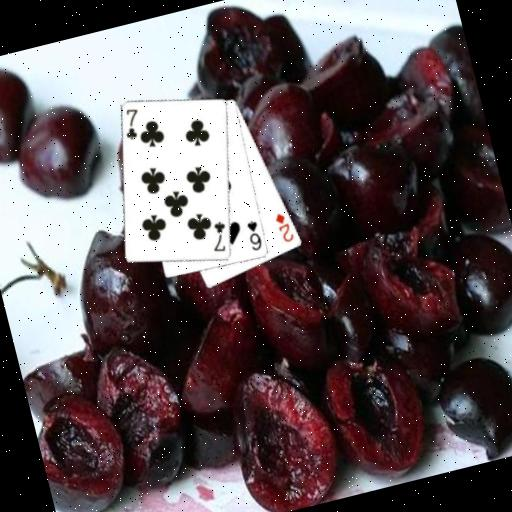2D: (271, 209, 297, 246)
6S: (242, 216, 265, 253)
7C: (204, 217, 233, 256), (117, 104, 146, 143)
